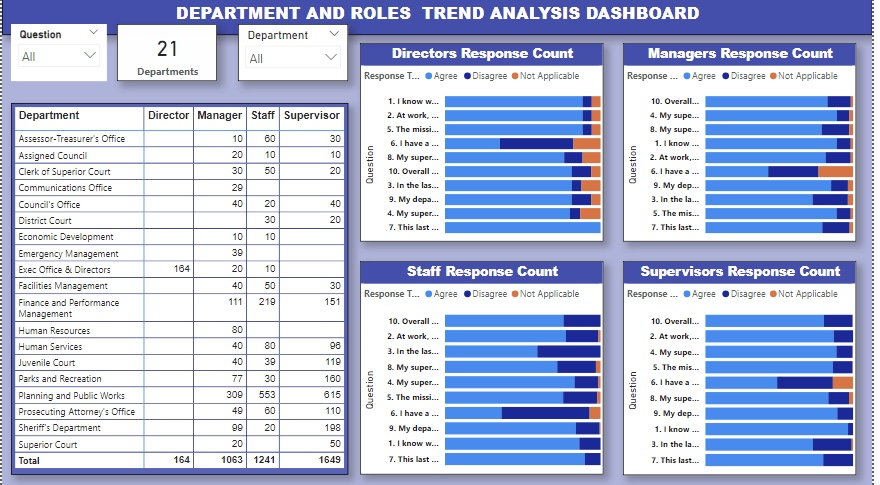

The dashboard page shown, as its layout file describes it:
{"tool":"powerbi","page":{"name":"Page 2","canvas":[1280,720],"ordinal":1},"visuals":[{"type":"pivotTable","fields":{"Rows":["Employee Survey - HR Survey Reponses.Department"],"Values":["Employee Survey - HR Survey Reponses.Director count","Employee Survey - HR Survey Reponses.Manager Count","Employee Survey - HR Survey Reponses.Staff Count","Employee Survey - HR Survey Reponses.Supervisor Count"]},"box":[13.8,156.2,496.1,546.6],"z":0},{"type":"hundredPercentStackedBarChart","title":"Directors Response Count","fields":{"Category":["Employee Survey - HR Survey Reponses.Question"],"Y":["CountNonNull(Employee Survey - HR Survey Reponses.Response Text (groups))"],"Series":["Employee Survey - HR Survey Reponses.Response Text (groups)"]},"box":[526.7,67.4,358.3,292.4],"z":1000},{"type":"textbox","box":[0,0,1279.8,56.3],"z":2000},{"type":"card","fields":{"Values":["Count(Employee Survey - HR Survey Reponses.Department)"]},"box":[168.4,39.8,147,84.2],"z":4000},{"type":"hundredPercentStackedBarChart","title":"Managers Response Count","fields":{"Category":["Employee Survey - HR Survey Reponses.Question"],"Y":["CountNonNull(Employee Survey - HR Survey Reponses.Response Text (groups))"],"Series":["Employee Survey - HR Survey Reponses.Response Text (groups)"]},"box":[912.5,67.4,343,292.4],"z":5000},{"type":"hundredPercentStackedBarChart","title":"Staff Response Count","fields":{"Category":["Employee Survey - HR Survey Reponses.Question"],"Y":["CountNonNull(Employee Survey - HR Survey Reponses.Response Text (groups))"],"Series":["Employee Survey - HR Survey Reponses.Response Text (groups)"]},"box":[526.7,388.9,358.3,313.9],"z":5001},{"type":"hundredPercentStackedBarChart","title":"Supervisors Response Count","fields":{"Category":["Employee Survey - HR Survey Reponses.Question"],"Y":["CountNonNull(Employee Survey - HR Survey Reponses.Response Text (groups))"],"Series":["Employee Survey - HR Survey Reponses.Response Text (groups)"]},"box":[912.5,388.9,343,315.4],"z":5002},{"type":"slicer","fields":{"Values":["Employee Survey - HR Survey Reponses.Question"]},"box":[13.8,39.8,140.9,84.2],"z":5003},{"type":"slicer","fields":{"Values":["Employee Survey - HR Survey Reponses.Department"]},"box":[347.6,39.8,162.3,84.2],"z":5004}]}

Visuals, with their boxes in screenshot pixels (x1, y1, x2, y2), scaled from the page's 1280x720 canvas onto the 880x485 screenshot:
pivotTable - Employee Survey - HR Survey Reponses.Department x Employee Survey - HR Survey Reponses.Director count: [9,105,351,473]
"Directors Response Count" hundredPercentStackedBarChart: [362,45,608,242]
textbox: [0,0,879,38]
card - Count(Employee Survey - HR Survey Reponses.Department): [116,27,217,84]
"Managers Response Count" hundredPercentStackedBarChart: [627,45,863,242]
"Staff Response Count" hundredPercentStackedBarChart: [362,262,608,473]
"Supervisors Response Count" hundredPercentStackedBarChart: [627,262,863,474]
slicer - Employee Survey - HR Survey Reponses.Question: [9,27,106,84]
slicer - Employee Survey - HR Survey Reponses.Department: [239,27,351,84]
